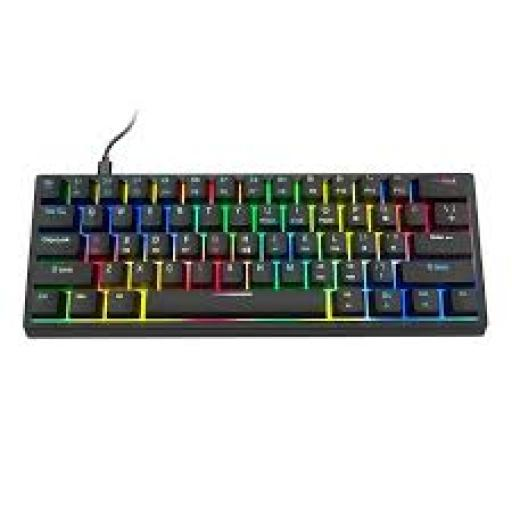KEYBOARD-2: (23, 143, 485, 335)
